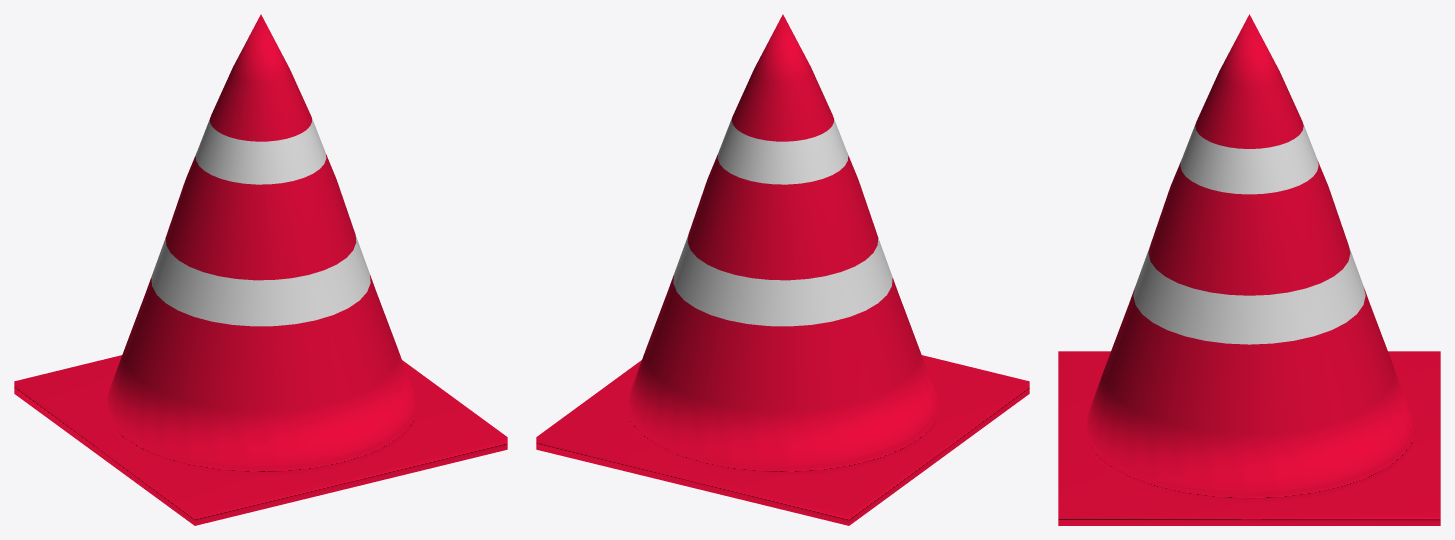
The model's file is TrafficCone.fbx.
The picture shows the model from 3 angles, left to right: view 1: azimuth 30°, elevation 25°; view 2: azimuth 150°, elevation 25°; view 3: azimuth 270°, elevation 25°; orthographic projection. The views are drawn at different scales.
Visible parts, largest first — view 1: Cube.014; view 2: Cube.014; view 3: Cube.014.
Part boxes in pixels (x1,y1,x2,y2): Cube.014: (14, 14, 507, 525); Cube.014: (536, 14, 1029, 525); Cube.014: (1058, 14, 1440, 525).
Bounding box in the file's own units: 166 × 207 × 166.
